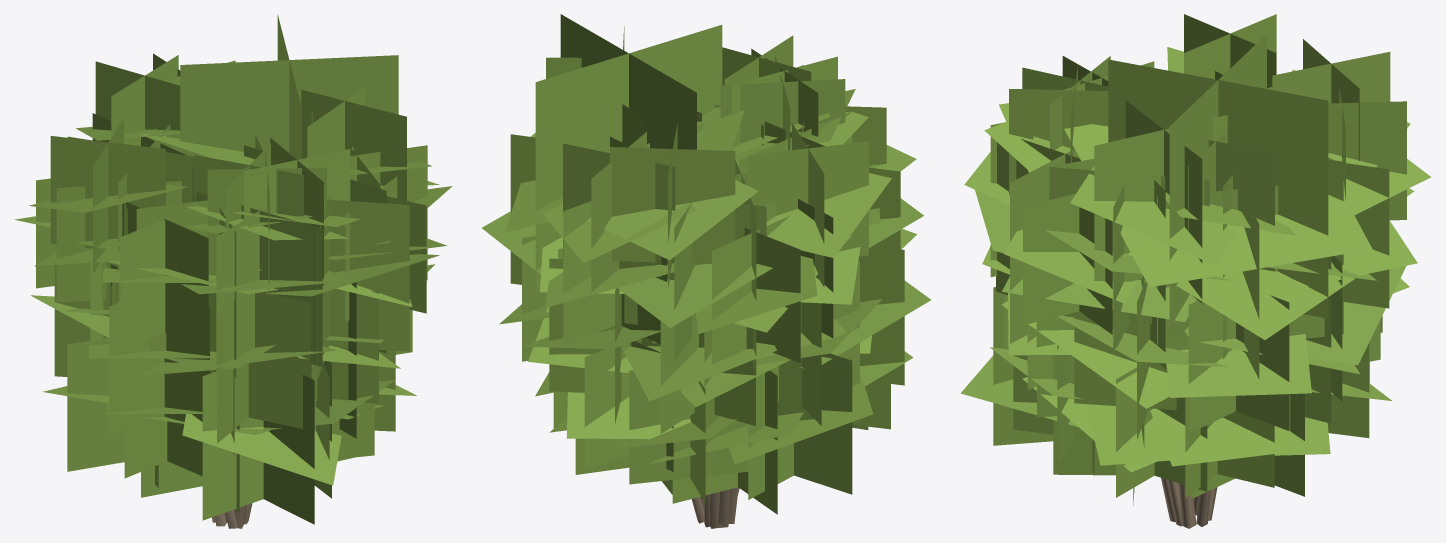
The model's file is noisetier_3_f2_loin.glb.
3 views of the same model, side by side, from view 1: azimuth 30°, elevation 25°; view 2: azimuth 150°, elevation 25°; view 3: azimuth 270°, elevation 25° (orthographic). The views are drawn at different scales.
Visible parts, largest first — view 1: Noisetier_T3_f2_Leger_Loin; view 2: Noisetier_T3_f2_Leger_Loin; view 3: Noisetier_T3_f2_Leger_Loin.
Part boxes in pixels (x1,y1,x2,y2): Noisetier_T3_f2_Leger_Loin: (15, 14, 452, 528); Noisetier_T3_f2_Leger_Loin: (482, 14, 930, 528); Noisetier_T3_f2_Leger_Loin: (960, 14, 1431, 528).
Bounding box in the file's own units: 5.77 × 6.62 × 5.91.
